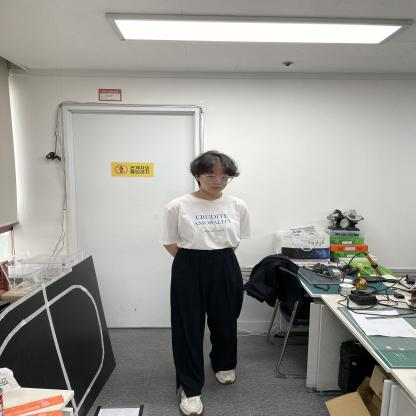normal: (162, 147, 252, 416)
